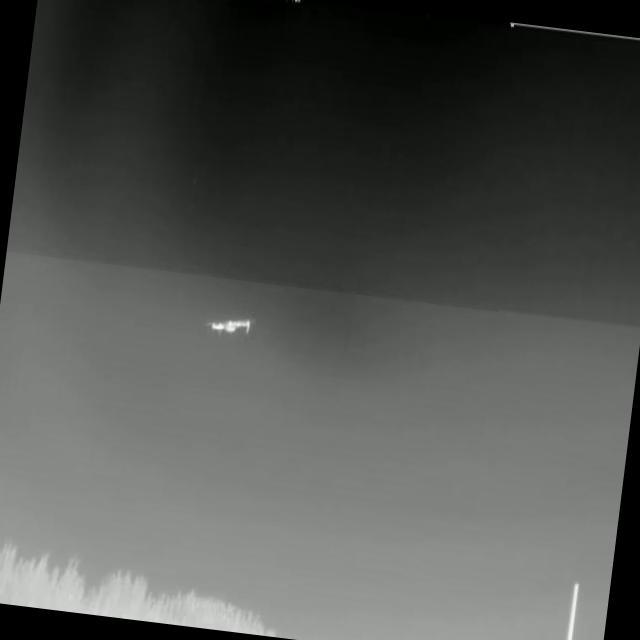DRONE: (197, 304, 262, 348)
